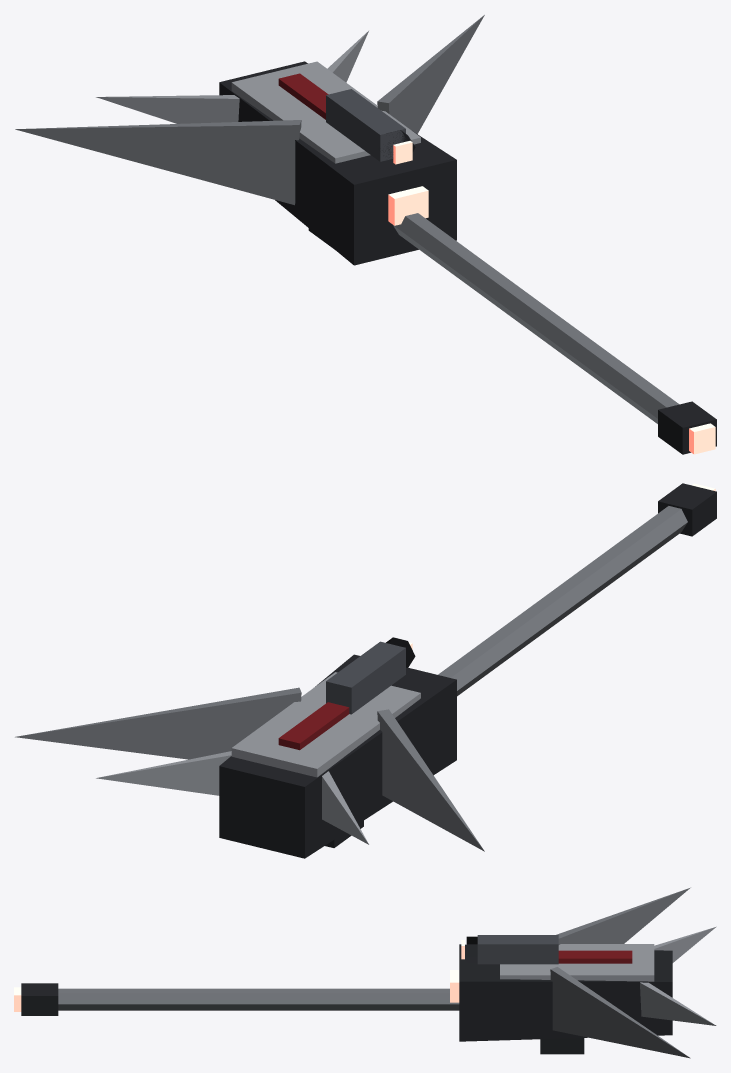
Rendered from sniper.glb.
The picture shows the model from 3 angles, top to bottom: view 1: azimuth 30°, elevation 25°; view 2: azimuth 150°, elevation 25°; view 3: azimuth 270°, elevation 25°; orthographic projection. The views are drawn at different scales.
Parts seen in each view (by area): view 1: SniperHull, SniperGlow; view 2: SniperHull; view 3: SniperHull, SniperGlow.
Part boxes in pixels (x1,y1,x2,y2): SniperHull: (15, 15, 716, 454); SniperGlow: (388, 140, 715, 454); SniperHull: (15, 483, 716, 858); SniperHull: (21, 887, 716, 1058); SniperGlow: (14, 940, 464, 1011).
Bounding box in the file's own units: 1.1 × 0.3303 × 1.91.
